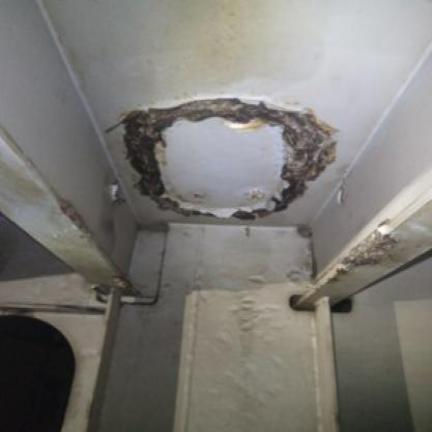besi_tidak_karat: (40, 0, 431, 225), (98, 224, 309, 431), (0, 0, 134, 287), (312, 49, 431, 275)
